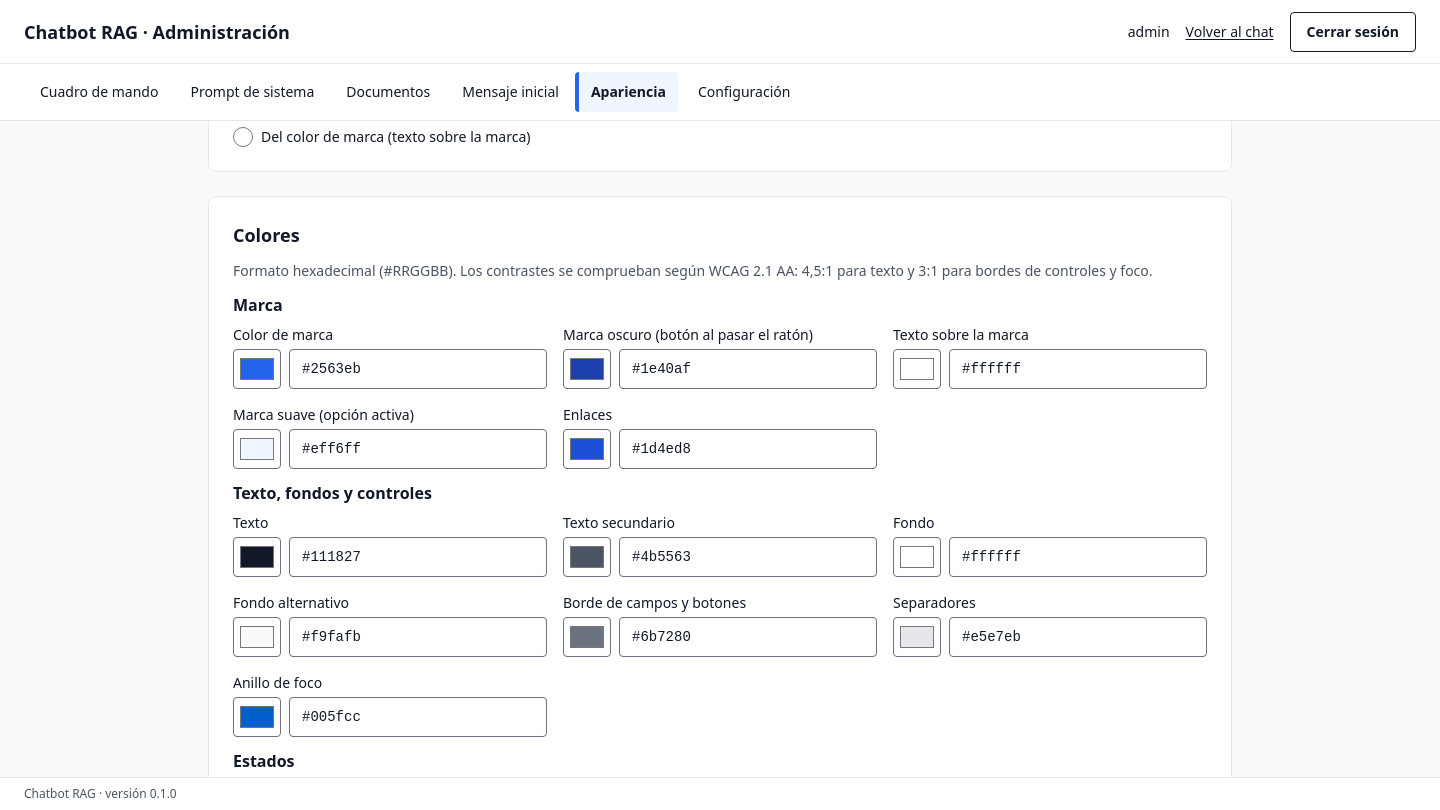
AppearancePage › el selector de color cambia el valor
This screenshot has width=1440, height=810.
(page scrolled)
# userEvent no simula el diálogo nativo del selector: se cambia su valor directamente.
Type "#7a0038" into the colour field named "Selector de color: Enlaces" at (587, 449), box [563,429,611,469]
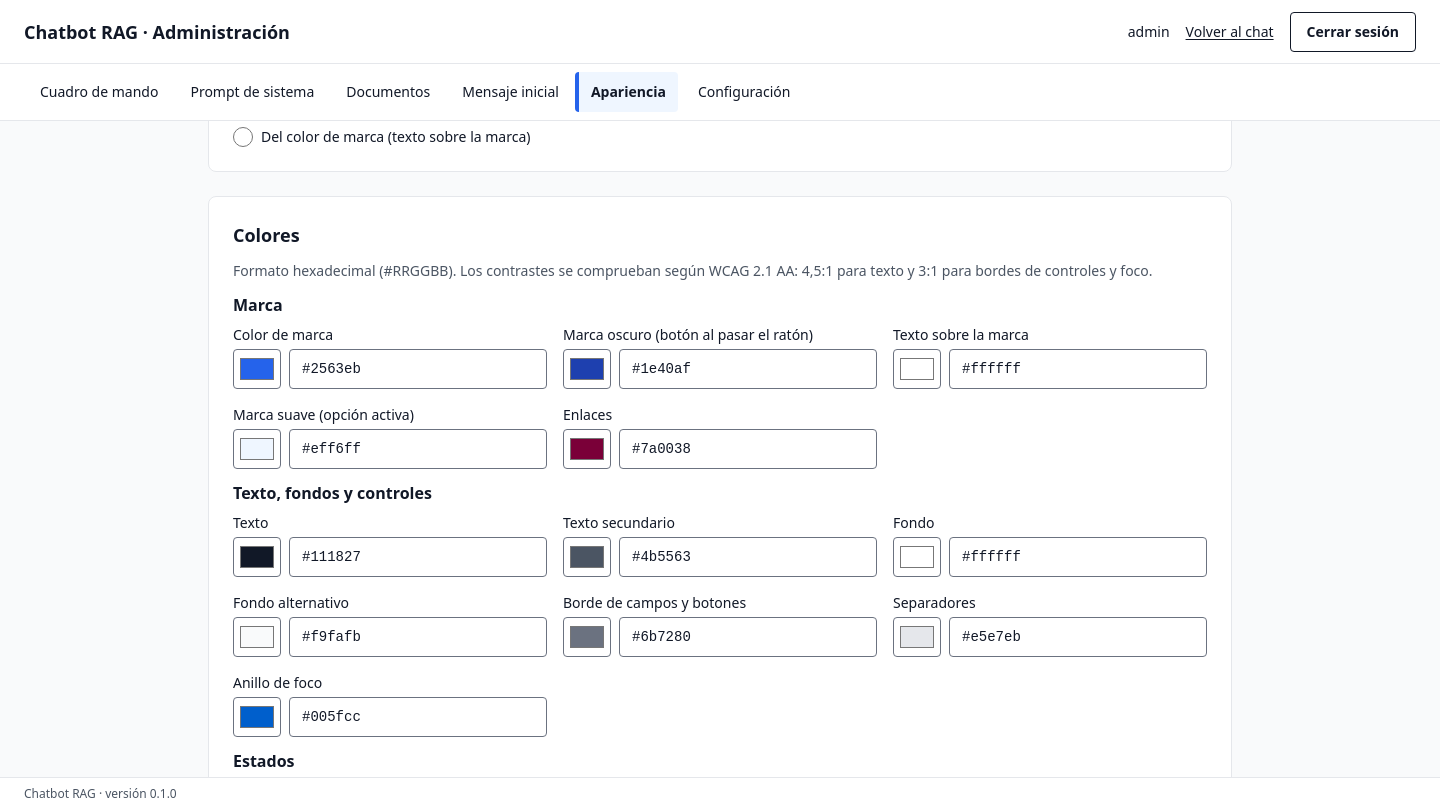
expect the field labelled "Enlaces" holds "#7a0038": met, box [619,429,877,469]
